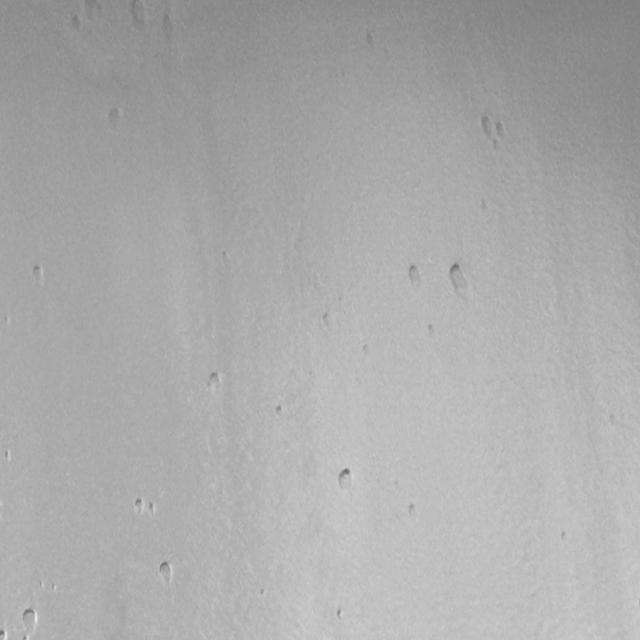pin holes: (443, 261, 473, 300), (127, 2, 152, 31), (335, 466, 358, 494), (20, 606, 41, 636), (204, 369, 227, 396), (155, 560, 176, 589), (476, 114, 496, 144), (105, 107, 126, 134), (161, 0, 172, 50), (404, 262, 424, 289), (28, 262, 49, 287), (67, 8, 87, 33), (317, 309, 336, 333), (406, 502, 422, 521), (361, 340, 375, 361), (496, 118, 507, 144), (2, 312, 16, 332), (335, 606, 350, 624), (147, 502, 162, 519), (273, 402, 287, 420), (558, 529, 571, 547), (424, 322, 436, 341), (131, 498, 145, 514), (1, 447, 12, 466), (49, 582, 60, 596), (0, 626, 8, 638)
